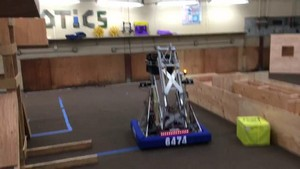cube: (234, 117, 273, 147)
